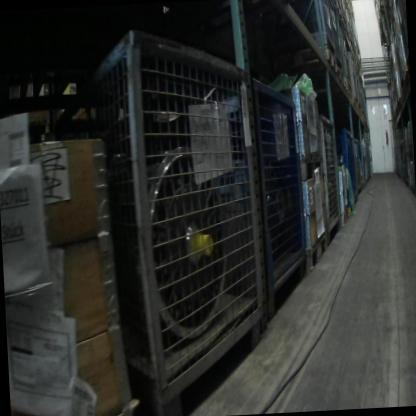pallet: (298, 229, 331, 279), (291, 45, 340, 77), (298, 152, 327, 180), (333, 72, 349, 92), (338, 203, 351, 226), (385, 0, 397, 24), (337, 15, 349, 39), (328, 0, 343, 15), (348, 90, 359, 110), (400, 61, 407, 88), (396, 88, 405, 107)
stillage: (68, 15, 268, 405), (248, 60, 307, 312), (319, 108, 342, 253), (292, 0, 336, 51), (342, 127, 356, 202), (348, 132, 364, 193), (331, 6, 345, 64)
